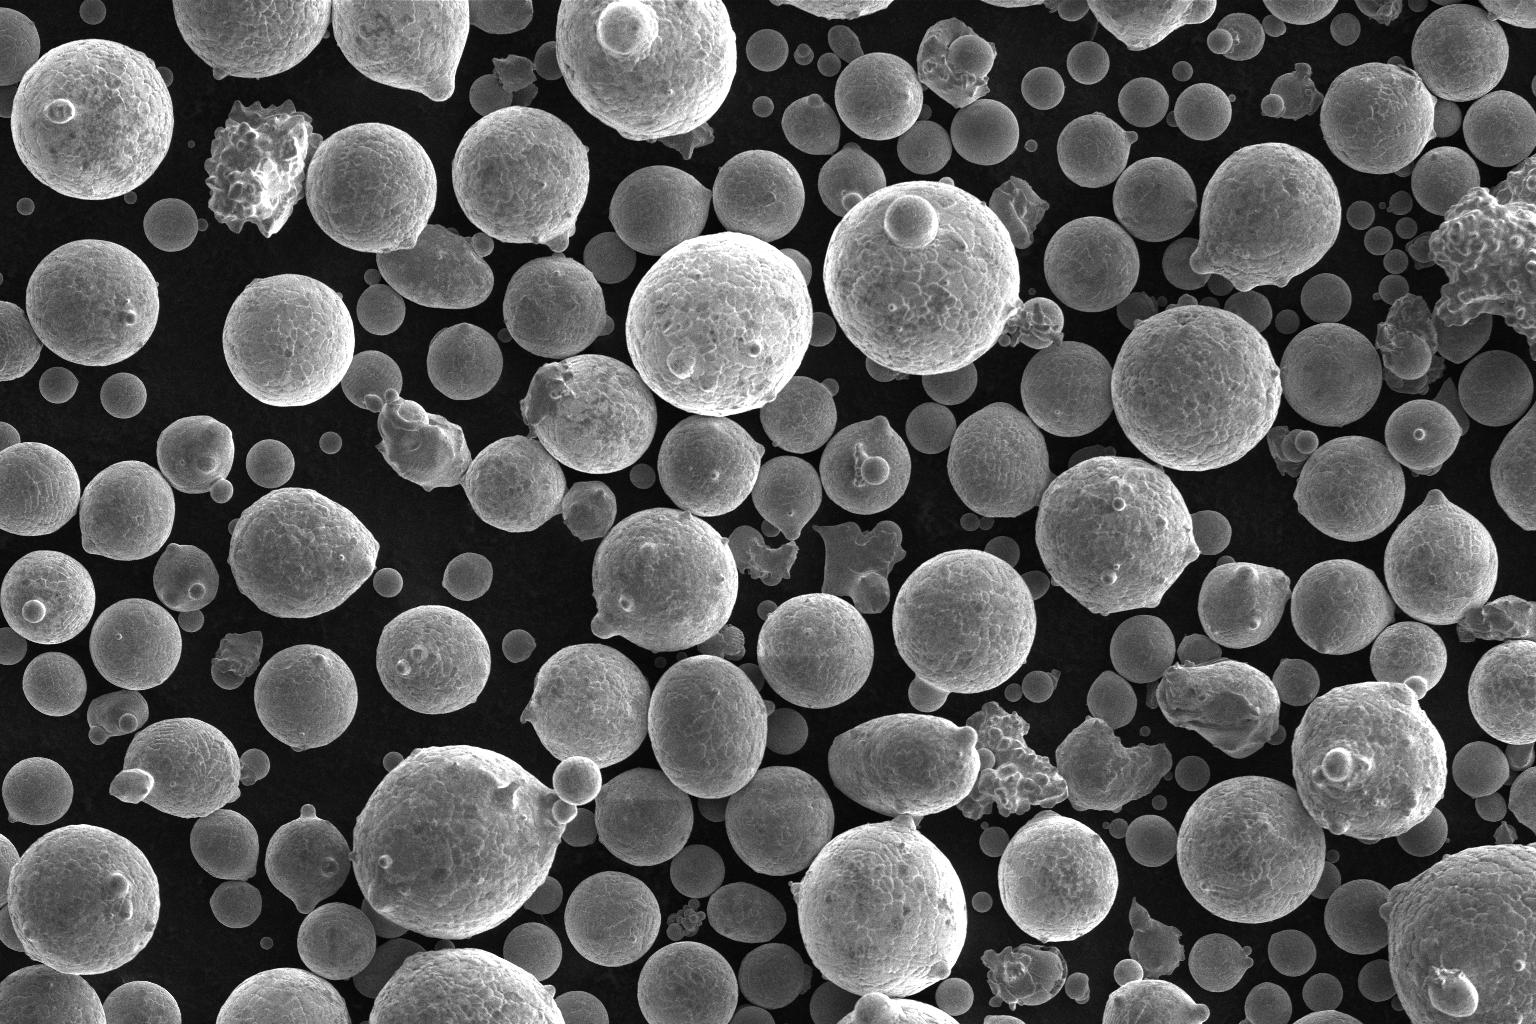Powder: (341, 349, 658, 542), (347, 745, 577, 939), (823, 177, 1026, 374), (625, 230, 813, 417), (789, 814, 968, 998), (1111, 305, 1285, 472), (1035, 455, 1201, 616), (11, 38, 174, 200), (555, 0, 738, 144), (1291, 681, 1448, 840), (891, 549, 1037, 712), (1384, 489, 1536, 642), (6, 824, 160, 975), (1190, 142, 1342, 293), (591, 507, 738, 654), (331, 0, 534, 101), (453, 105, 590, 251), (227, 487, 379, 618), (648, 655, 776, 799), (222, 274, 355, 406), (303, 122, 438, 253), (26, 239, 160, 366), (203, 99, 323, 238), (520, 643, 651, 769), (109, 718, 270, 819), (998, 810, 1119, 944), (827, 713, 981, 817), (359, 949, 565, 1024), (757, 593, 874, 709), (955, 701, 1069, 821), (1319, 61, 1438, 174), (171, 0, 331, 81), (947, 402, 1058, 518), (376, 605, 491, 714), (725, 766, 835, 875), (503, 251, 615, 359), (1293, 437, 1406, 542), (1055, 715, 1173, 813), (253, 645, 359, 752), (657, 415, 765, 517), (1280, 323, 1383, 427), (1290, 559, 1397, 656), (376, 224, 494, 309), (594, 768, 694, 866), (609, 165, 714, 256), (1411, 5, 1510, 102), (79, 461, 175, 560), (265, 803, 351, 914), (0, 549, 96, 645), (565, 871, 661, 967), (1045, 216, 1141, 312), (819, 415, 911, 515), (1019, 341, 1114, 437), (811, 521, 906, 614), (89, 597, 182, 690), (713, 150, 805, 243), (638, 941, 738, 1024), (1197, 562, 1293, 648), (216, 967, 352, 1024), (834, 53, 923, 139), (917, 17, 998, 109), (1113, 157, 1198, 242), (469, 41, 563, 117), (1467, 640, 1536, 744), (1102, 959, 1210, 1024), (157, 416, 235, 503), (1086, 0, 1217, 51), (1056, 111, 1139, 187), (297, 902, 376, 981), (760, 376, 839, 454), (1369, 621, 1447, 699), (752, 456, 823, 541), (981, 943, 1067, 1011), (427, 323, 504, 401), (1459, 350, 1535, 427), (1490, 402, 1536, 530), (1384, 399, 1464, 470), (1463, 90, 1536, 167), (818, 142, 887, 218), (190, 809, 259, 881), (738, 943, 813, 1010), (2, 757, 74, 825), (1411, 146, 1481, 216), (707, 882, 786, 943), (1129, 897, 1186, 981), (153, 542, 219, 613), (1110, 615, 1176, 683), (950, 99, 1019, 165), (989, 176, 1050, 249), (353, 938, 427, 999), (728, 525, 800, 586), (23, 651, 87, 715), (837, 992, 961, 1024), (1189, 933, 1254, 993), (781, 94, 841, 155), (1261, 63, 1325, 121), (503, 922, 563, 982), (998, 297, 1064, 349), (87, 690, 149, 745), (103, 981, 181, 1024), (1174, 83, 1232, 141), (0, 7, 40, 86), (211, 631, 264, 690), (1086, 671, 1137, 730), (143, 198, 199, 251), (896, 120, 952, 174), (670, 845, 725, 898), (1207, 13, 1265, 62), (1125, 815, 1178, 867), (584, 232, 637, 283), (905, 402, 957, 454), (1162, 237, 1211, 290), (1118, 77, 1169, 127), (1301, 273, 1352, 323), (1266, 427, 1319, 477), (769, 0, 894, 21), (357, 283, 406, 335), (442, 552, 493, 601), (552, 755, 602, 805), (210, 880, 262, 928), (246, 439, 295, 488), (922, 362, 978, 405), (1272, 658, 1320, 706), (1269, 929, 1317, 977), (1238, 982, 1291, 1024), (810, 981, 862, 1024), (657, 122, 715, 160), (101, 373, 147, 419), (766, 709, 809, 755), (1021, 67, 1066, 110), (362, 898, 409, 939), (1225, 290, 1272, 331), (1066, 41, 1110, 85), (1190, 510, 1231, 555), (746, 29, 789, 72), (555, 991, 609, 1024), (698, 624, 746, 661), (665, 898, 706, 941), (523, 875, 563, 915), (1117, 291, 1158, 330), (1302, 973, 1343, 1011), (1479, 0, 1536, 27), (39, 367, 79, 405), (935, 978, 974, 1016), (562, 807, 598, 847), (827, 25, 864, 63), (1022, 669, 1061, 703), (502, 629, 537, 664), (1405, 231, 1435, 271), (1175, 757, 1210, 791), (779, 248, 811, 286), (1067, 443, 1115, 469), (1434, 98, 1463, 138), (985, 536, 1019, 568), (865, 357, 909, 382), (979, 821, 1009, 857), (0, 627, 27, 665), (1330, 13, 1361, 46), (1045, 0, 1090, 21), (810, 312, 837, 347), (1379, 274, 1409, 305), (373, 568, 405, 597), (728, 1005, 775, 1024), (1021, 571, 1051, 600), (698, 795, 731, 822), (1347, 200, 1376, 230), (1065, 971, 1091, 1003), (1365, 226, 1393, 255), (0, 81, 21, 118), (738, 664, 765, 693), (630, 464, 656, 490), (79, 0, 106, 24), (0, 421, 21, 453), (1275, 309, 1301, 334), (1387, 191, 1413, 216), (1383, 249, 1408, 274), (1206, 274, 1234, 296), (178, 609, 203, 632), (1165, 294, 1198, 311), (1102, 818, 1129, 839), (818, 53, 841, 77), (319, 431, 342, 454), (1262, 15, 1286, 37), (981, 0, 1045, 8), (383, 751, 405, 773), (971, 891, 993, 913), (794, 43, 815, 65), (752, 96, 774, 117), (1397, 217, 1417, 239), (1173, 61, 1193, 81), (757, 600, 778, 619), (984, 1015, 1026, 1024), (16, 197, 35, 216), (761, 520, 781, 538), (1003, 683, 1023, 702), (960, 513, 981, 530), (1394, 161, 1415, 177), (363, 269, 382, 286), (157, 67, 173, 87), (917, 104, 933, 120), (1151, 795, 1168, 810), (1199, 297, 1221, 309), (497, 328, 513, 343), (434, 939, 455, 951), (1408, 0, 1429, 11), (979, 517, 994, 530), (1386, 55, 1406, 65), (1166, 111, 1177, 127), (1431, 0, 1463, 6), (229, 518, 239, 535), (123, 191, 137, 203), (1024, 139, 1038, 152), (261, 937, 273, 950), (198, 218, 208, 231), (655, 657, 666, 667), (1141, 726, 1151, 736), (1157, 296, 1167, 306), (1531, 75, 1536, 97), (677, 651, 686, 661), (1163, 771, 1173, 781), (187, 139, 195, 149), (1227, 94, 1237, 102), (1371, 293, 1382, 299), (922, 83, 929, 91), (1029, 288, 1035, 295), (1379, 202, 1386, 208)
